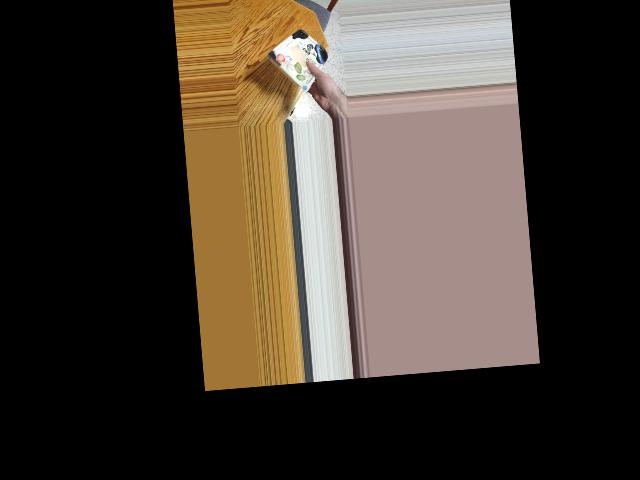cheese: (275, 29, 322, 88)
